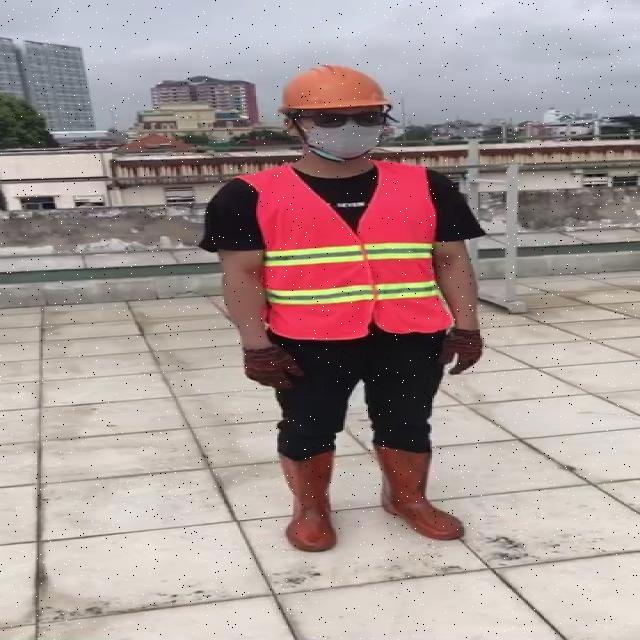Hard_hat: (274, 60, 400, 124)
Vest: (259, 156, 446, 341)
